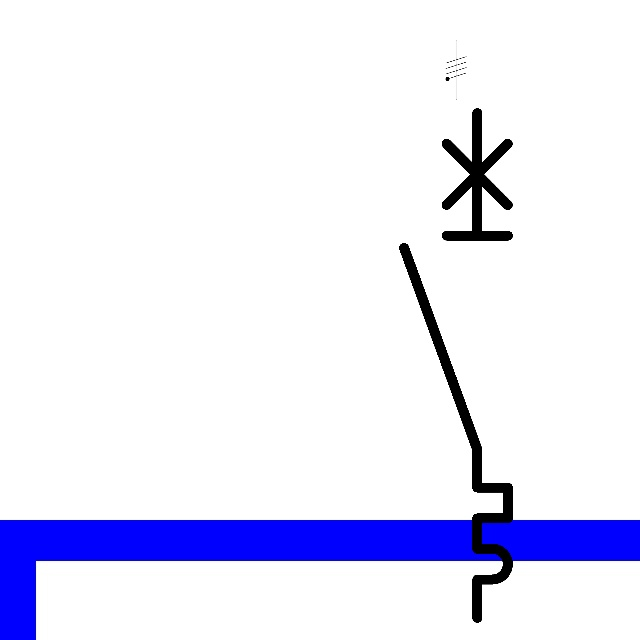interruptor_termomagnetico: (391, 100, 521, 631)
